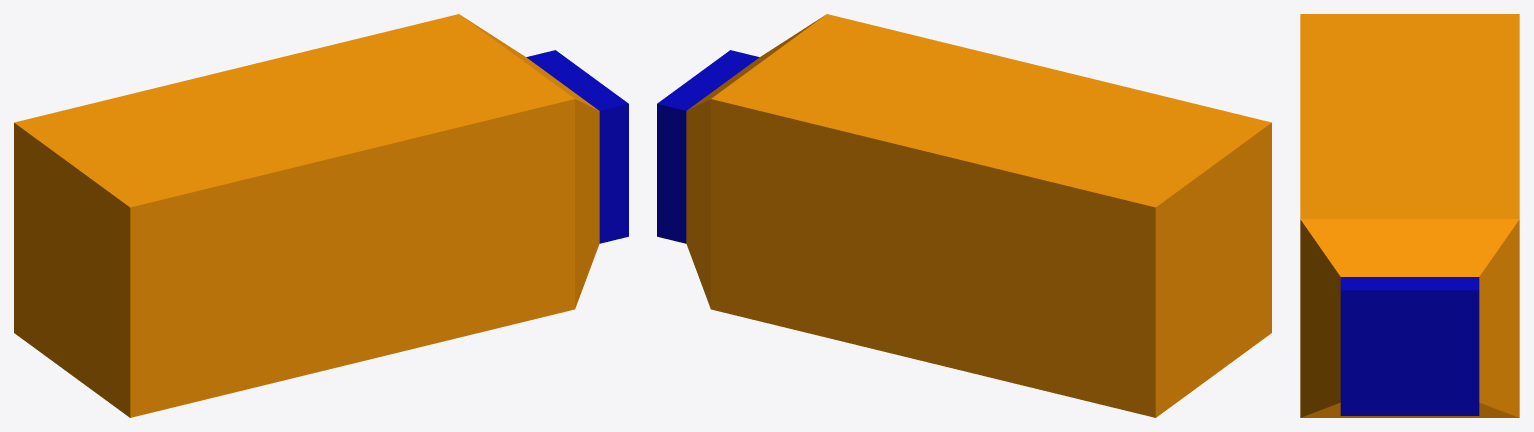
File: RootPart.obj
3 views of the same model, side by side, from view 1: azimuth 30°, elevation 25°; view 2: azimuth 150°, elevation 25°; view 3: azimuth 270°, elevation 25° (orthographic). The views are drawn at different scales.
Parts seen in each view (by area): view 1: RootBuilder_Cube.006; view 2: RootBuilder_Cube.006; view 3: RootBuilder_Cube.006.
Boxes of the visible parts, x1=… form: RootBuilder_Cube.006: x1=14, y1=14, x2=628, y2=417; RootBuilder_Cube.006: x1=657, y1=14, x2=1271, y2=417; RootBuilder_Cube.006: x1=1300, y1=14, x2=1519, y2=417.
Bounding box in the file's own units: 2.22 × 0.8575 × 0.8575.
